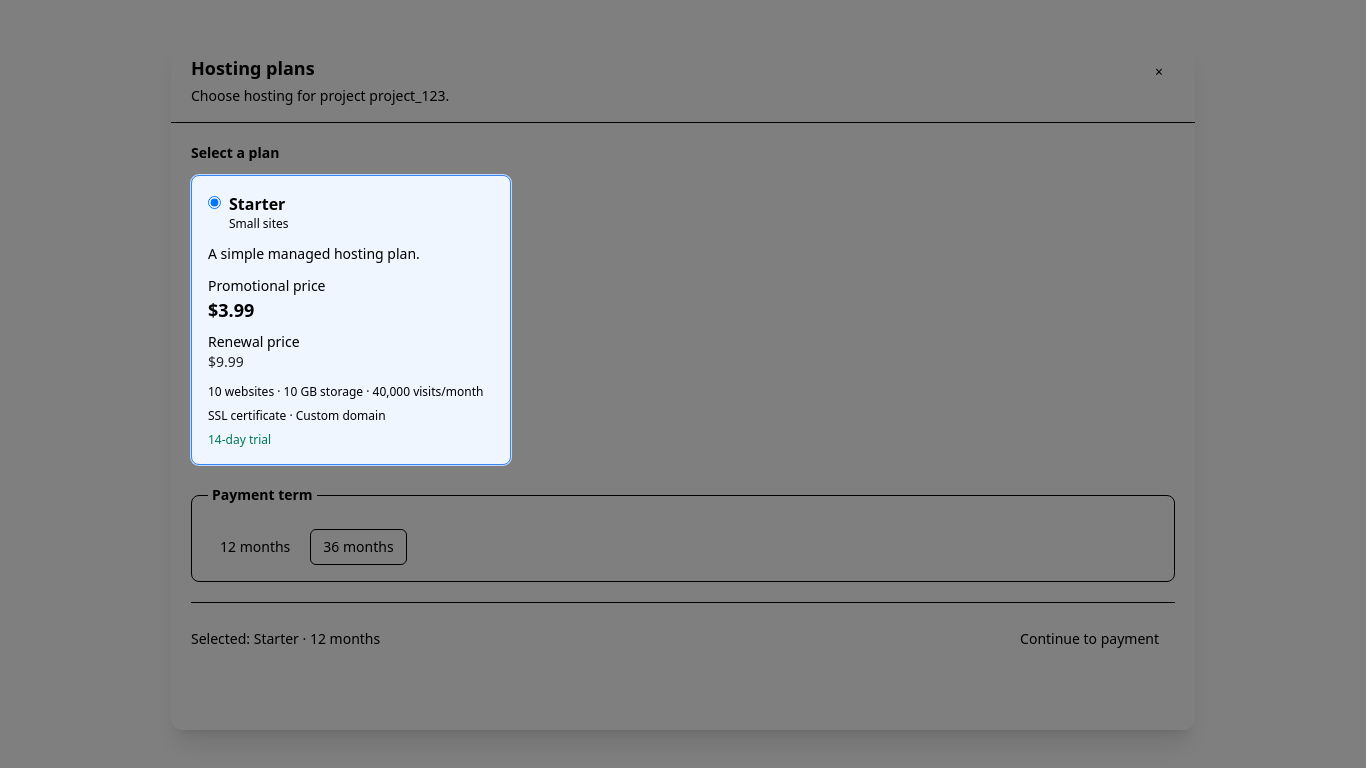
PlanSelector › surfaces the not-configured payment boundary without claiming completion
Click the button "Continue to payment". click: (1090, 639)
box: [1004,619,1175,659]
(page scrolled)
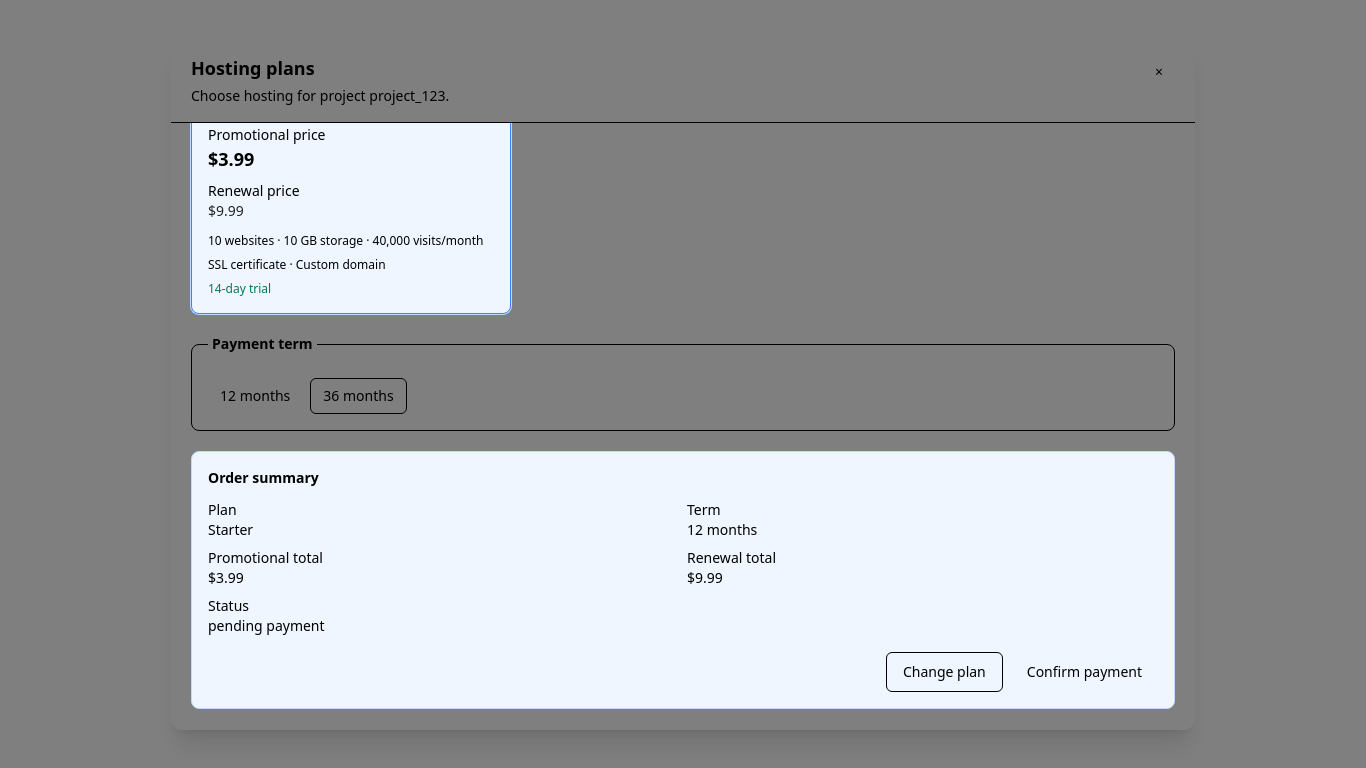
Click the button "Confirm payment". click: (1084, 672)
box: [1011,652,1158,692]
(page scrolled)
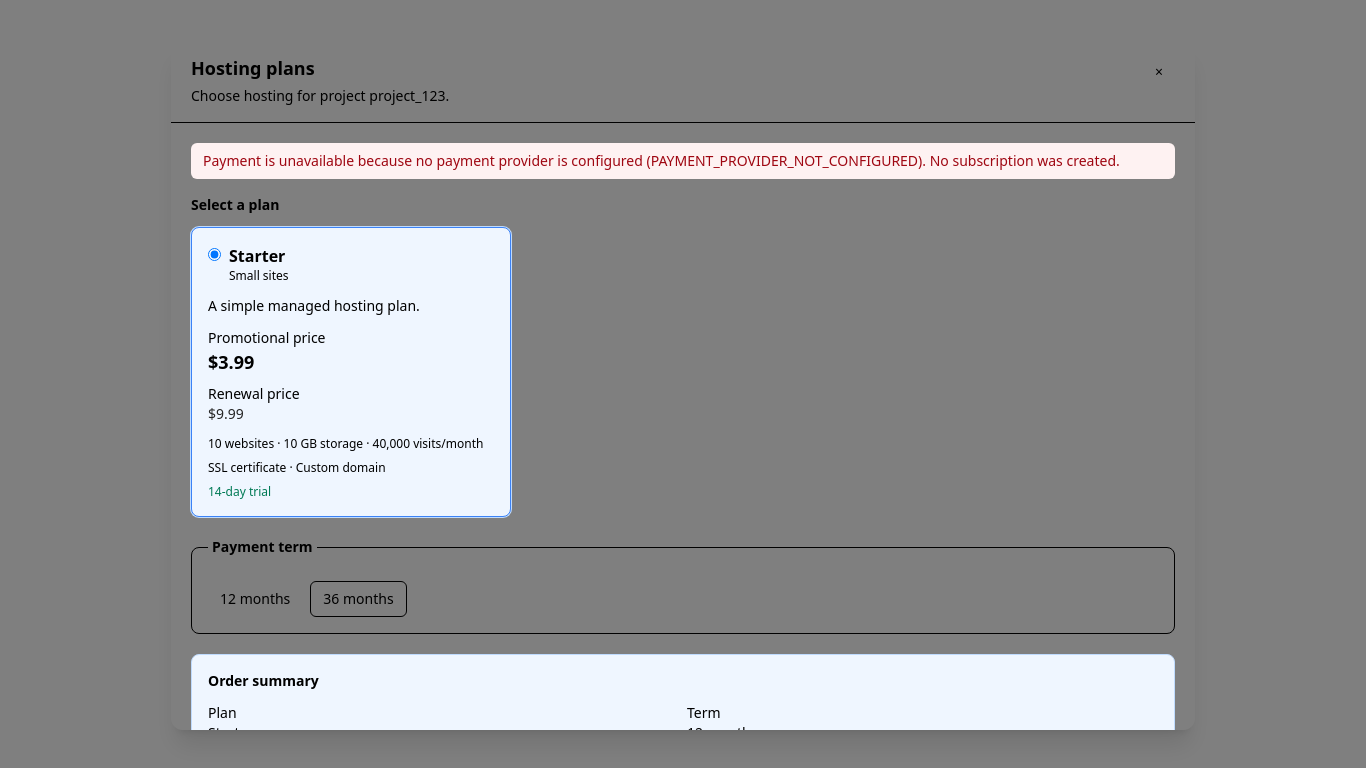
Now the message shows "PAYMENT_PROVIDER_NOT_CONFIGURED", box [203,151,1120,170]
Now the message shows "No subscription was created", box [203,151,1120,170]
